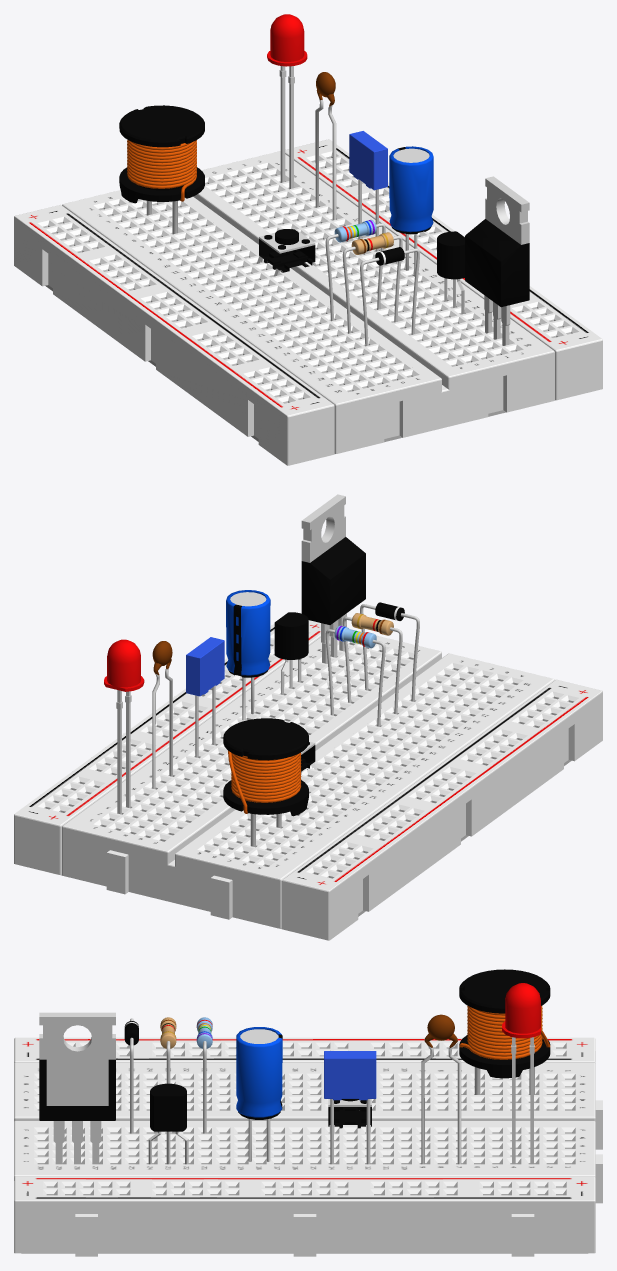
Rendered from breadboard.glb.
3 views of the same model, one above another, from view 1: azimuth 30°, elevation 25°; view 2: azimuth 150°, elevation 25°; view 3: azimuth 270°, elevation 25° (orthographic). The views are drawn at different scales.
Parts seen in each view (by area): view 1: Breadboard_100, TO-220_18, Inductor-Radial_38, Capacitor-Cylindrical_6, Wire.001_37, Heatsink_16, Capacitor-Film_22, Diode-Light-Emitting_2, Button_33, Legs_0, TO-92_15, Legs.015_24 (+4 smaller); view 2: Breadboard_100, TO-220_18, Inductor-Radial_38, Capacitor-Cylindrical_6, Wire.001_37, Heatsink_16, Capacitor-Film_22, Diode-Light-Emitting_2, TO-92_15, Legs_0, Legs.015_24, Legs.011_8 (+4 smaller); view 3: Breadboard_100, Heatsink_16, Inductor-Radial_38, Capacitor-Cylindrical_6, Capacitor-Film_22, Wire.001_37, TO-220_18, Diode-Light-Emitting_2, TO-92_15, Legs.005_17, Legs.015_24, Legs_0 (+9 smaller).
Part boxes in pixels (x1,y1,x2,y2): Breadboard_100: [14, 139, 602, 465]; TO-220_18: [465, 219, 529, 307]; Inductor-Radial_38: [119, 105, 204, 203]; Capacitor-Cylindrical_6: [389, 146, 433, 234]; Wire.001_37: [127, 140, 196, 201]; Heatsink_16: [485, 176, 529, 244]; Capacitor-Film_22: [349, 131, 387, 190]; Diode-Light-Emitting_2: [267, 14, 307, 66]; Button_33: [259, 228, 315, 272]; Legs_0: [279, 66, 294, 189]; TO-92_15: [437, 231, 464, 279]; Legs.015_24: [315, 98, 336, 220]; Breadboard_100: [14, 620, 602, 940]; TO-220_18: [301, 537, 365, 624]; Inductor-Radial_38: [223, 718, 308, 816]; Capacitor-Cylindrical_6: [226, 590, 270, 677]; Wire.001_37: [228, 750, 301, 813]; Heatsink_16: [301, 494, 345, 562]; Capacitor-Film_22: [186, 637, 224, 696]; Diode-Light-Emitting_2: [104, 639, 144, 691]; TO-92_15: [274, 612, 308, 659]; Legs_0: [116, 690, 131, 814]; Legs.015_24: [152, 667, 172, 789]; Legs.011_8: [325, 629, 385, 726]; Breadboard_100: [14, 1037, 602, 1256]; Heatsink_16: [39, 1012, 115, 1105]; Inductor-Radial_38: [459, 969, 550, 1078]; Capacitor-Cylindrical_6: [236, 1027, 282, 1119]; Capacitor-Film_22: [324, 1051, 376, 1100]; Wire.001_37: [459, 1006, 550, 1059]; TO-220_18: [39, 1059, 115, 1120]; Diode-Light-Emitting_2: [502, 983, 540, 1038]; TO-92_15: [150, 1083, 186, 1131]; Legs.005_17: [53, 1121, 101, 1164]; Legs.015_24: [421, 1045, 461, 1164]; Legs_0: [511, 1037, 534, 1164].
Size of the model in its own units: 0.0542 by 0.0353 by 0.081.
Materials: 39 (1 with a texture image).
